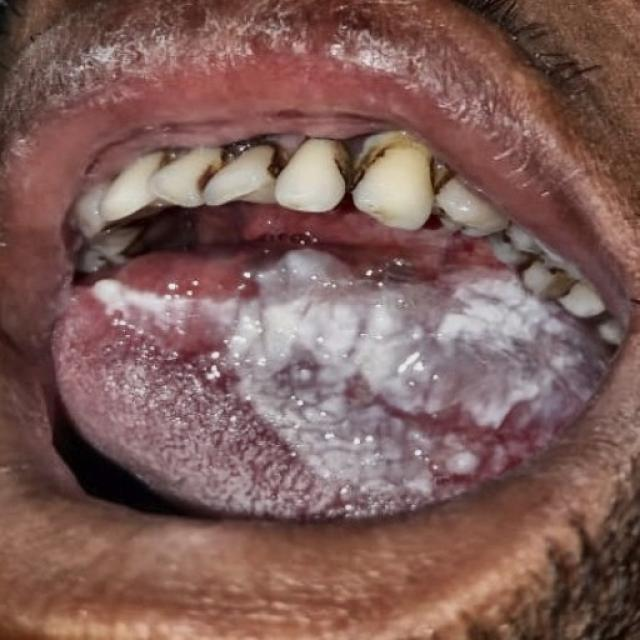leukoplakia-detection: (50, 241, 617, 520)
processing_area: (21, 211, 615, 522)
